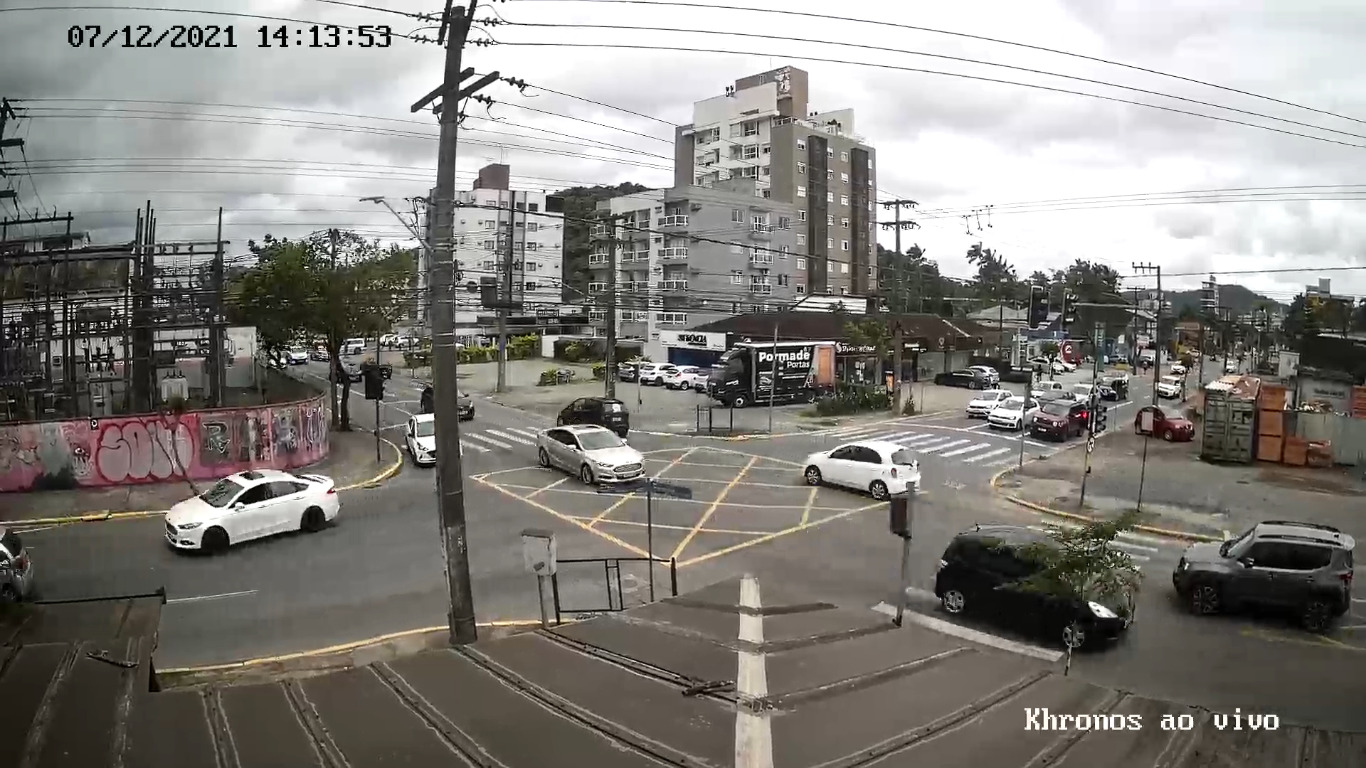car: (934, 526, 1136, 651), (1172, 522, 1353, 632), (165, 468, 341, 556), (802, 440, 922, 502)
